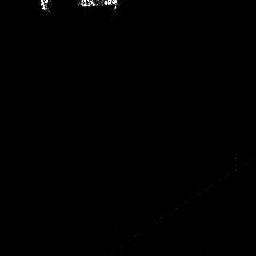ship: (74, 1, 121, 11)
